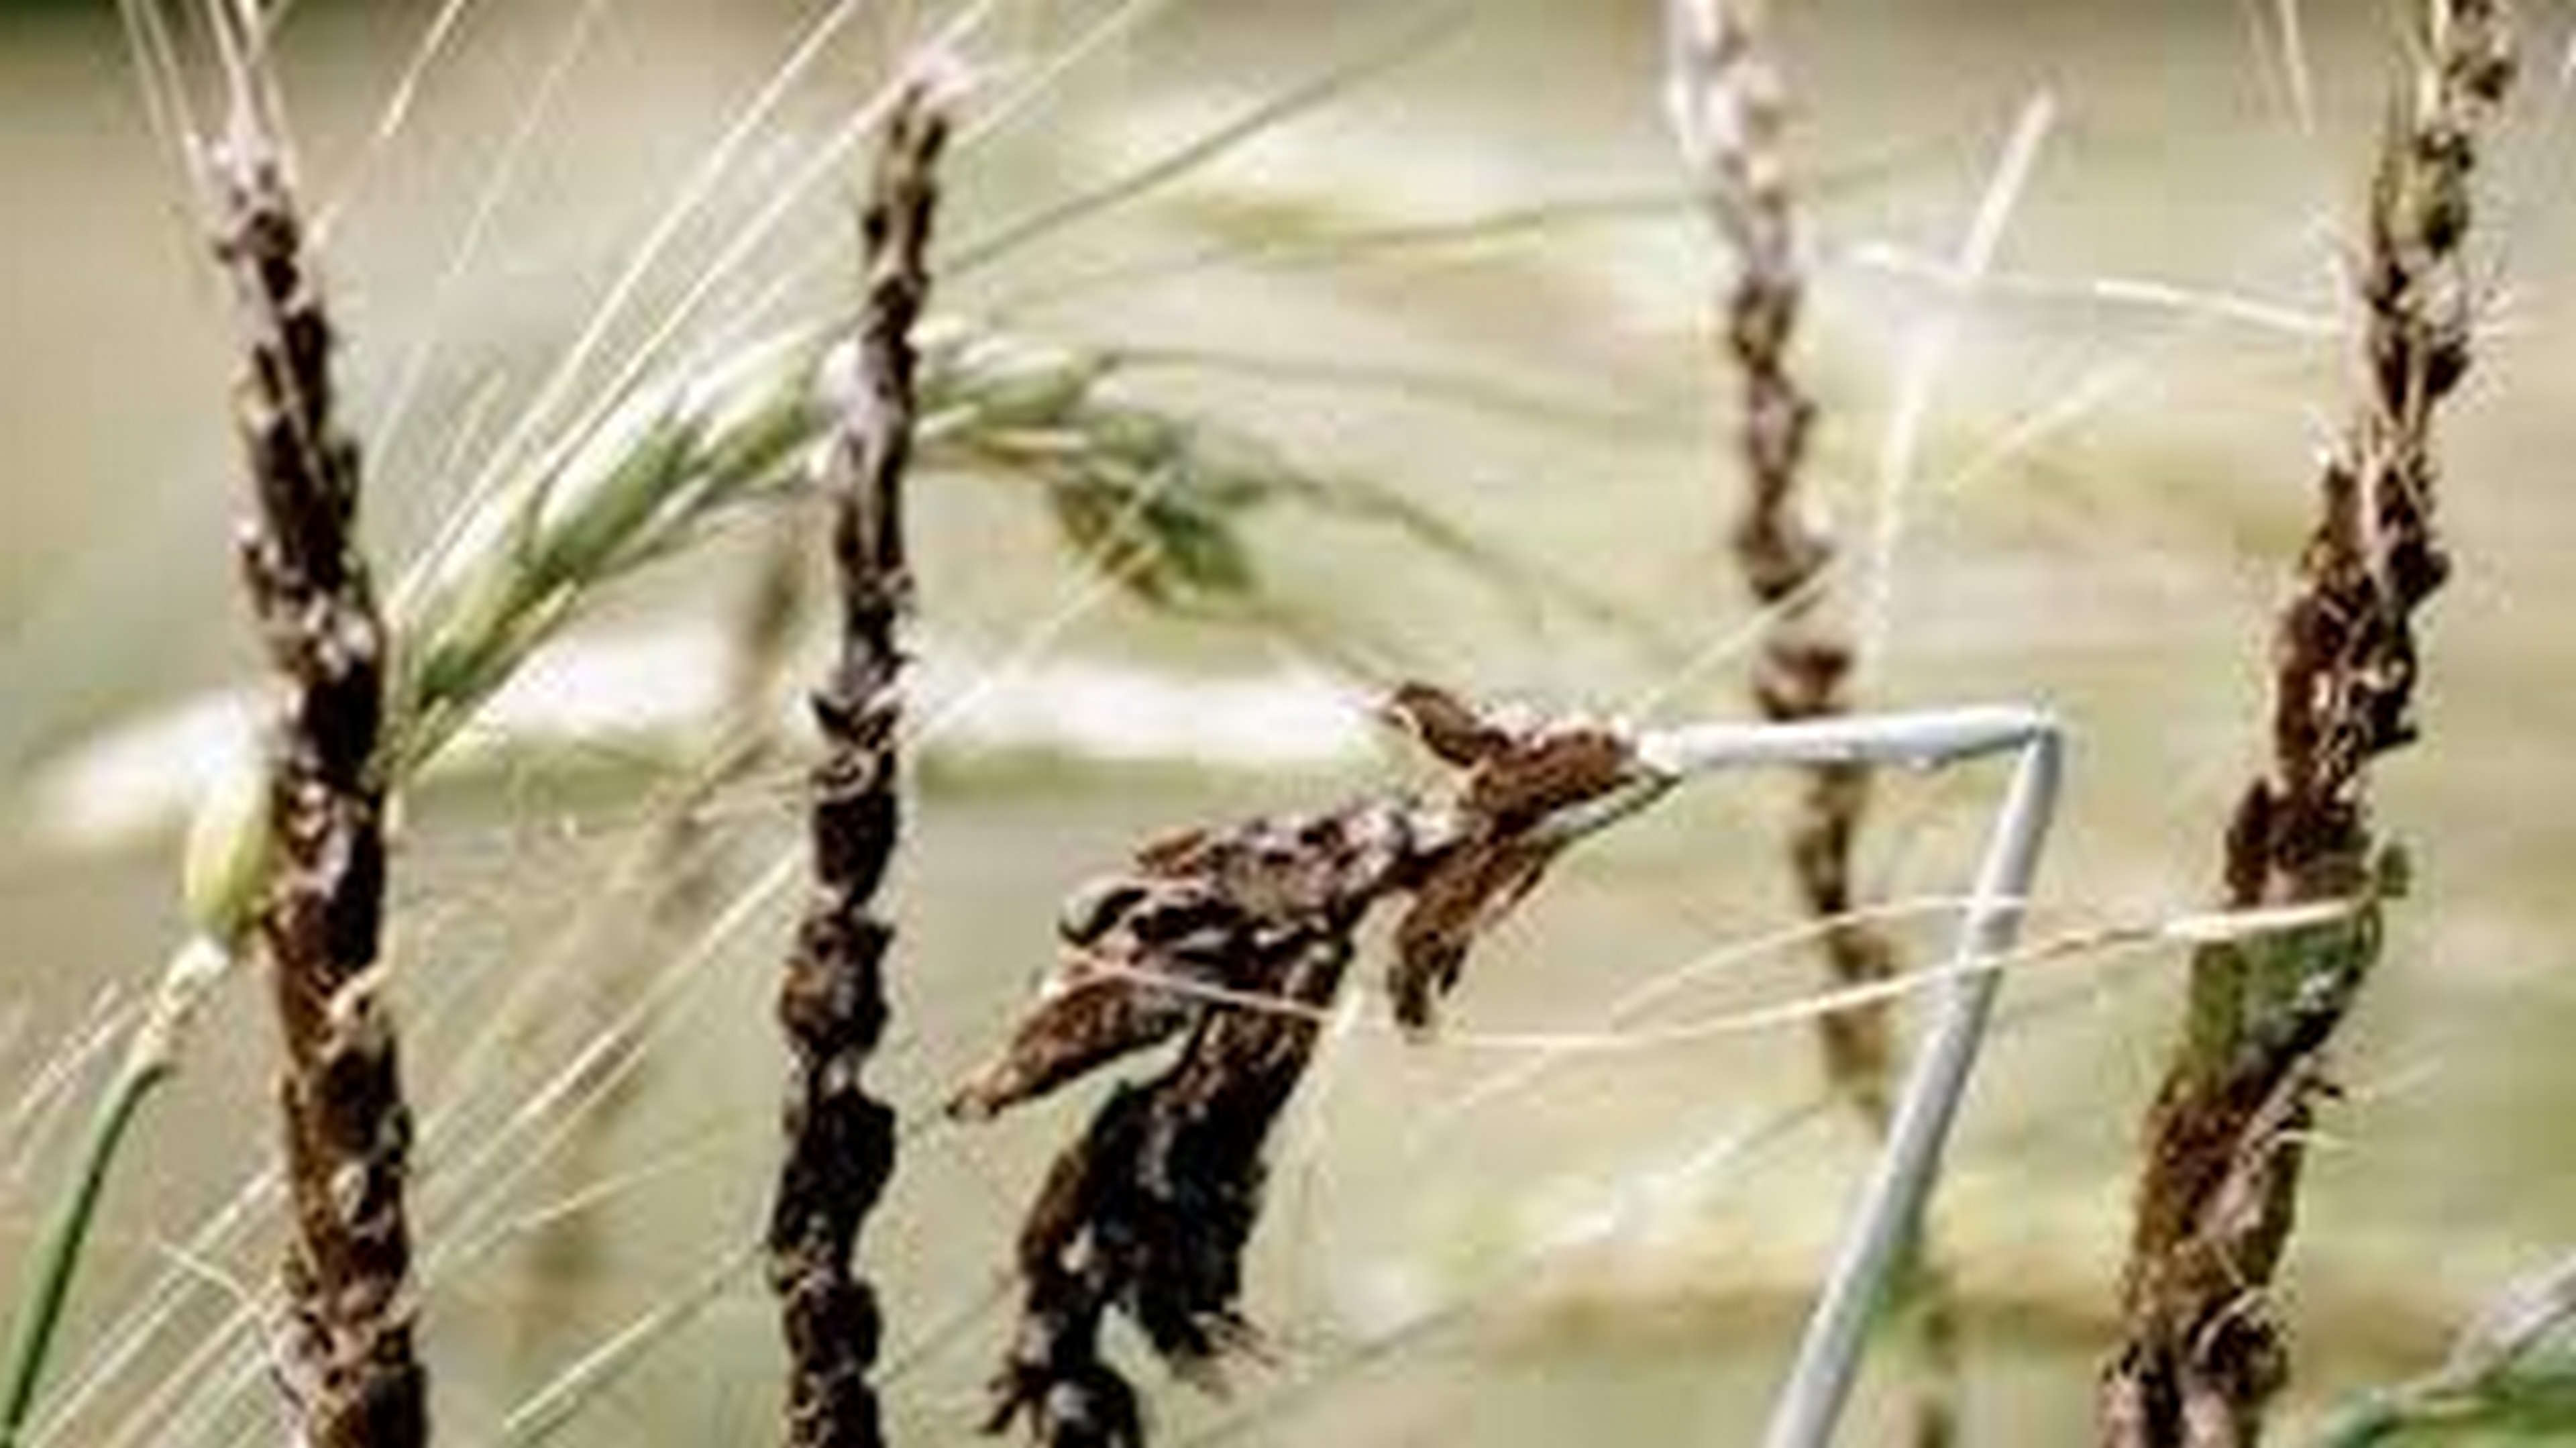Wheat Loose Smut: (2100, 58, 2518, 1409), (186, 159, 460, 1377), (740, 122, 955, 1414)
